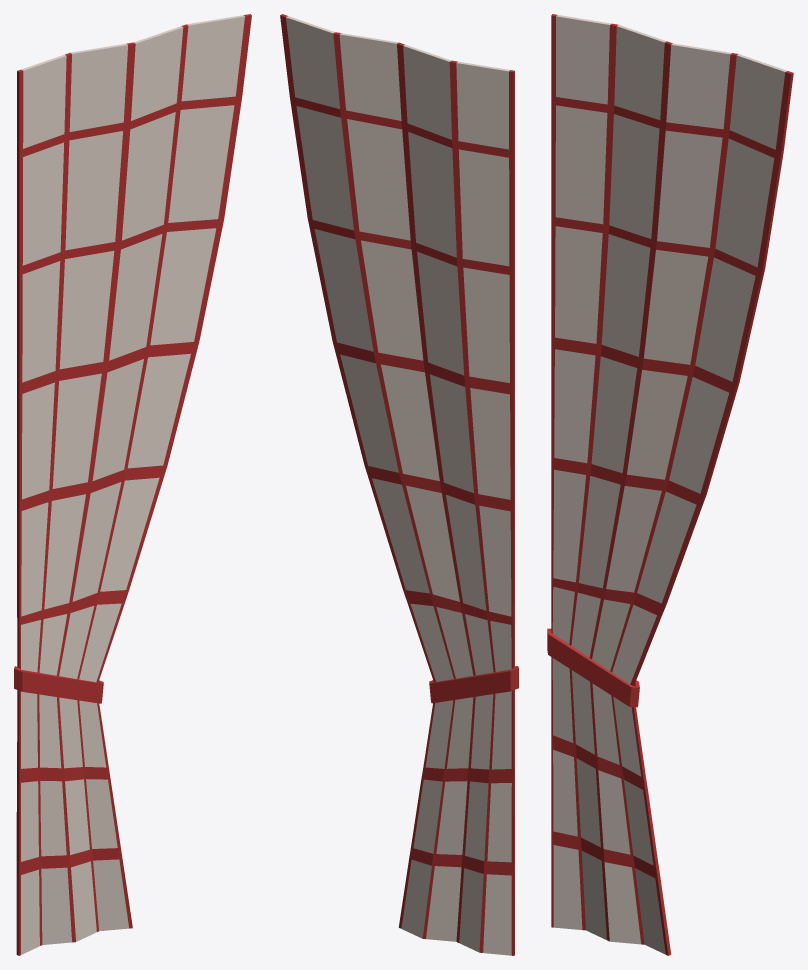
The model's file is Curtains_4.fbx.
3 renders of one model, left to right at view 1: azimuth 30°, elevation 25°; view 2: azimuth 150°, elevation 25°; view 3: azimuth 330°, elevation 25°, orthographic. The views are drawn at different scales.
Visible parts, largest first — view 1: Curtains_4; view 2: Curtains_4; view 3: Curtains_4.
Part boxes in pixels (x1,y1,x2,y2): Curtains_4: (14, 14, 251, 955); Curtains_4: (280, 14, 518, 955); Curtains_4: (547, 14, 793, 955).
Bounding box in the file's own units: 96.04 × 7.2 × 341.
